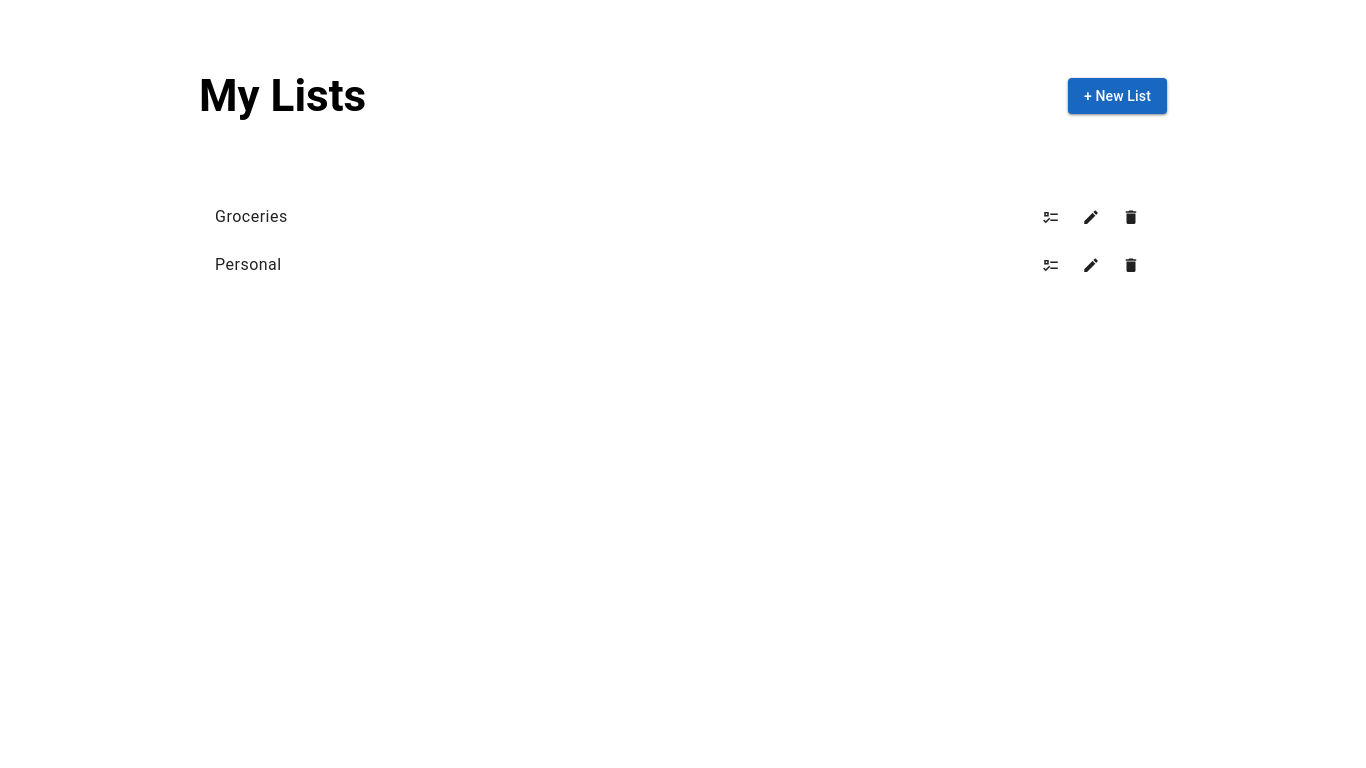
Test: Feature 2 — Dashboard lists view › US-2.4 — Rename and delete lists › User deletes a list
Click the button named "Delete list" in the row of "Groceries" at (1131, 217), box [1111,197,1151,237]
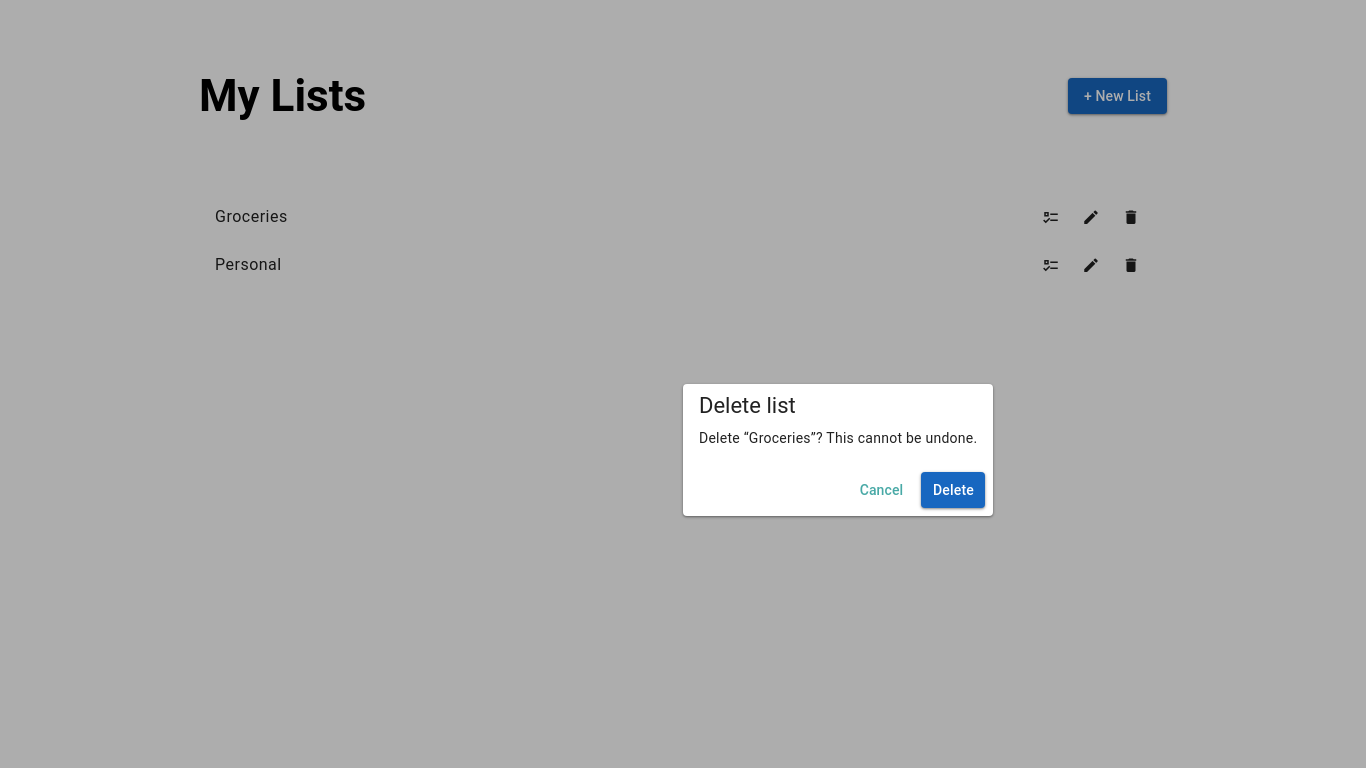
Now the button "Delete" is shown
Click the button "Delete" at (953, 490), box [921,472,985,508]
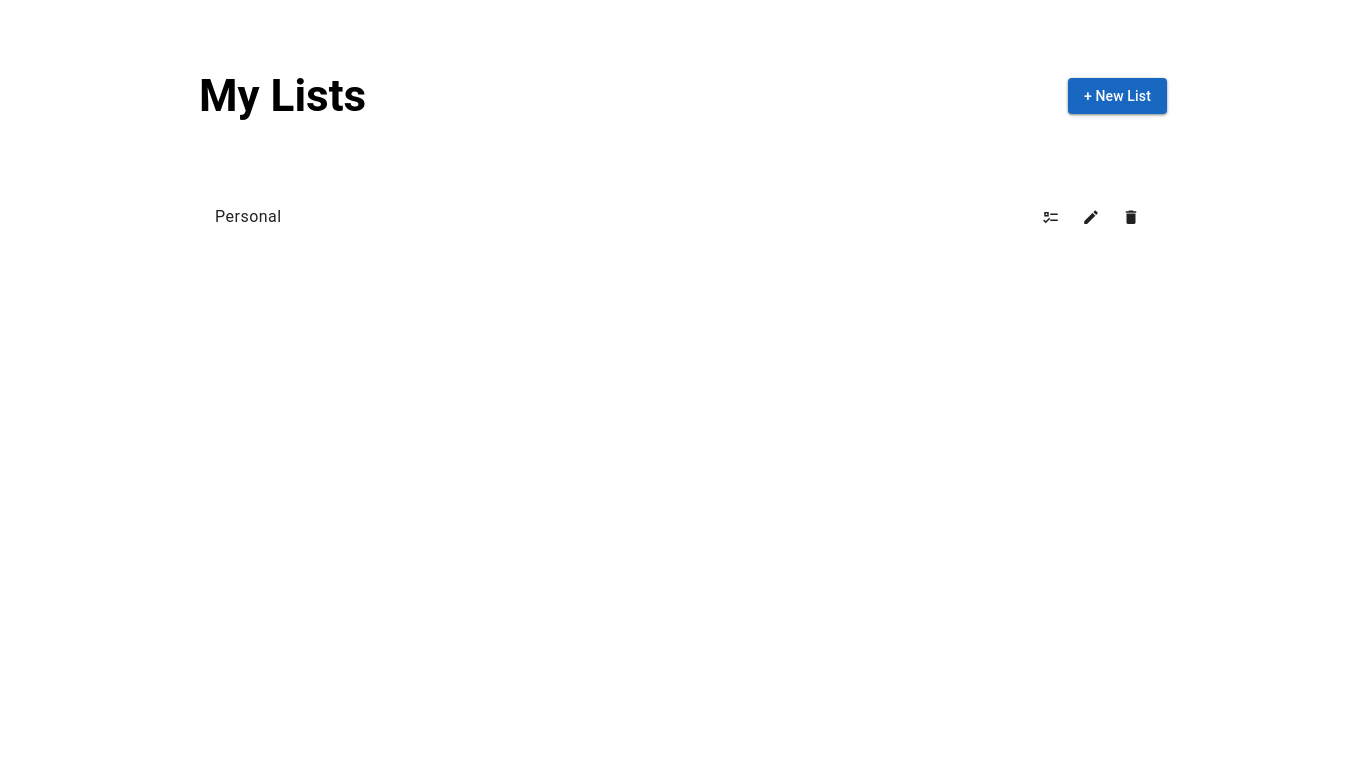
Expected: the text "Personal" is shown, [215,207,282,226]
Now the text "Groceries" is gone
